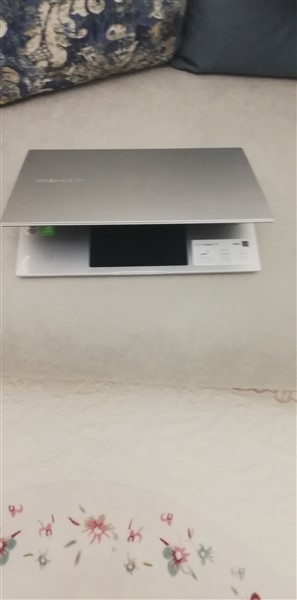laptop: (3, 141, 279, 279)
